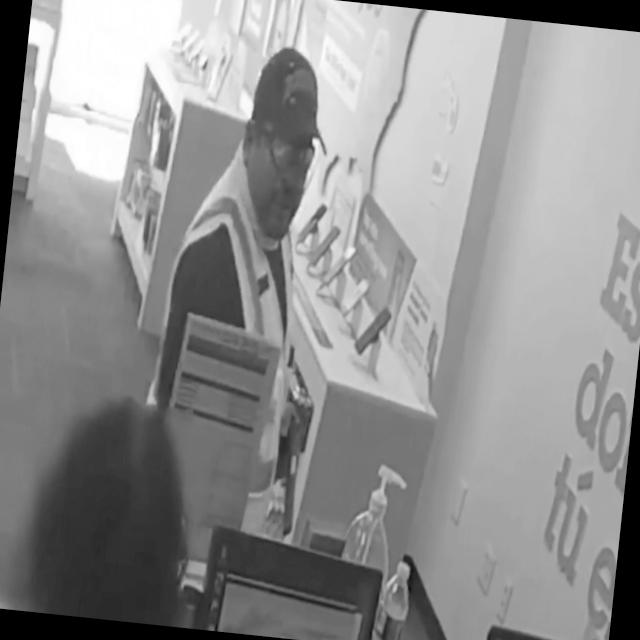gun: (268, 407, 306, 538)
person with a gun: (136, 35, 344, 539)
